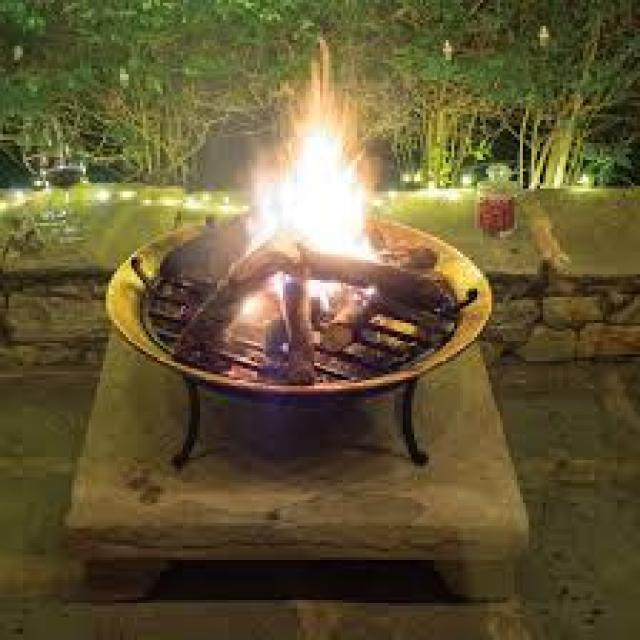fire: (244, 35, 385, 264), (234, 271, 291, 328)
